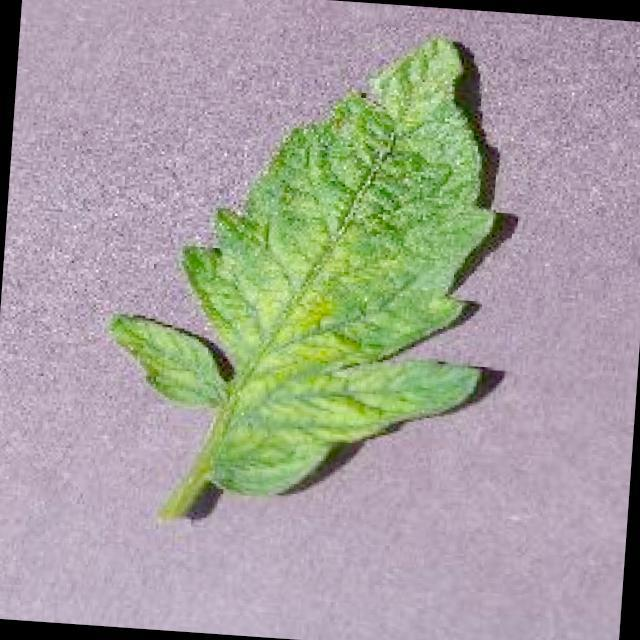Tomato mosaic virus leaf: (97, 1, 520, 510)
